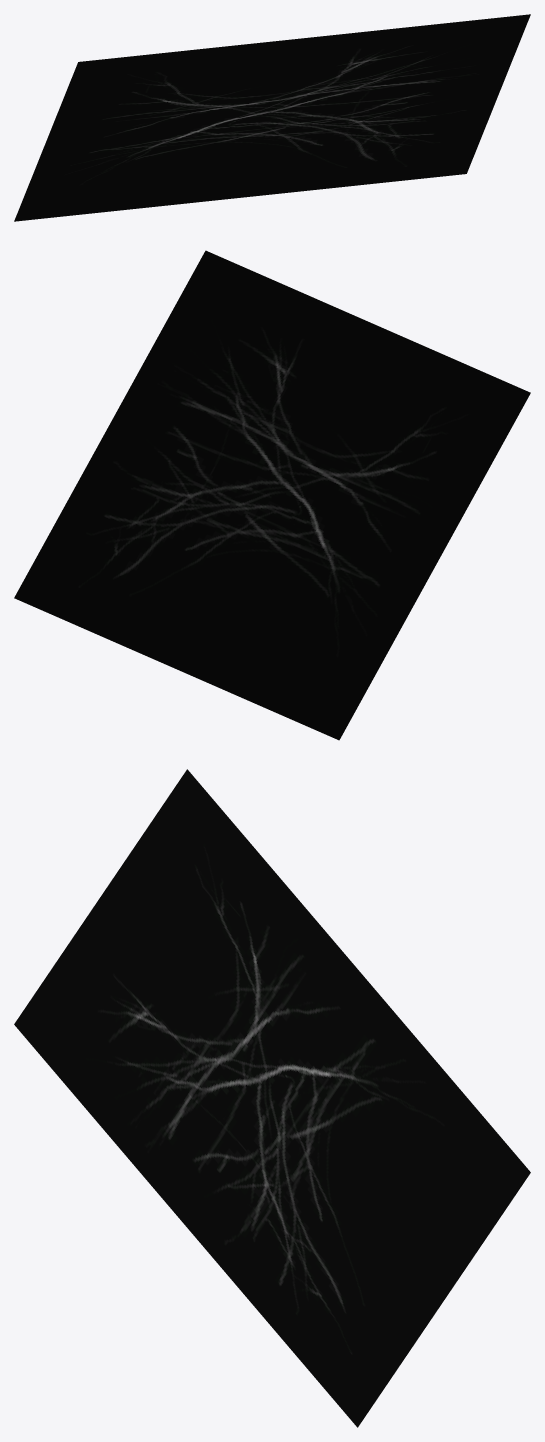
File: MIRKWOOD_WEB_DECOR07.fbx
3 views of the same model, one above another, from view 1: azimuth 30°, elevation 25°; view 2: azimuth 150°, elevation 25°; view 3: azimuth 270°, elevation 25° (orthographic). The views are drawn at different scales.
Visible parts, largest first — view 1: MIRKWOOD_WEB_DECOR07; view 2: MIRKWOOD_WEB_DECOR07; view 3: MIRKWOOD_WEB_DECOR07.
Part boxes in pixels (x1,y1,x2,y2): MIRKWOOD_WEB_DECOR07: [14, 14, 530, 221]; MIRKWOOD_WEB_DECOR07: [14, 250, 530, 740]; MIRKWOOD_WEB_DECOR07: [14, 769, 530, 1427].
Bounding box in the file's own units: 90301 × 51282 × 66414.
Materials: 1 (1 with a texture image).
